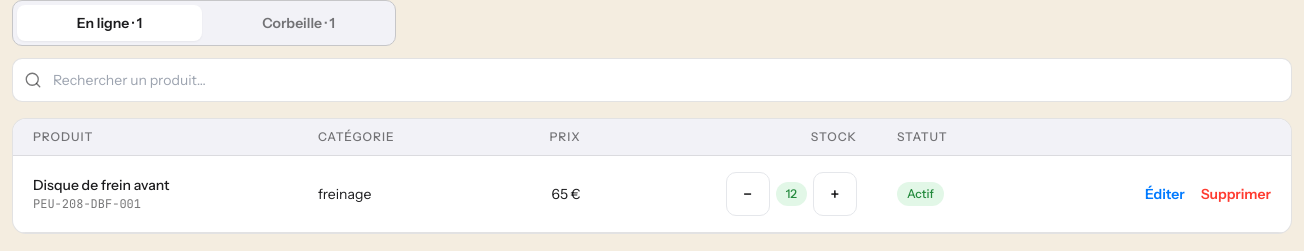
Test: Corbeille du BO › pièces : une pièce supprimée quitte la liste et se retrouve dans la corbeille
The image size is (1304, 251).
Check: the text "Disque de frein avant" is shown, box [33,176,170,194]
Check: the text "Plaquettes de frein avant" is not shown
Click the tab "Corbeille · 1" at [298, 23], box [206,5,391,41]
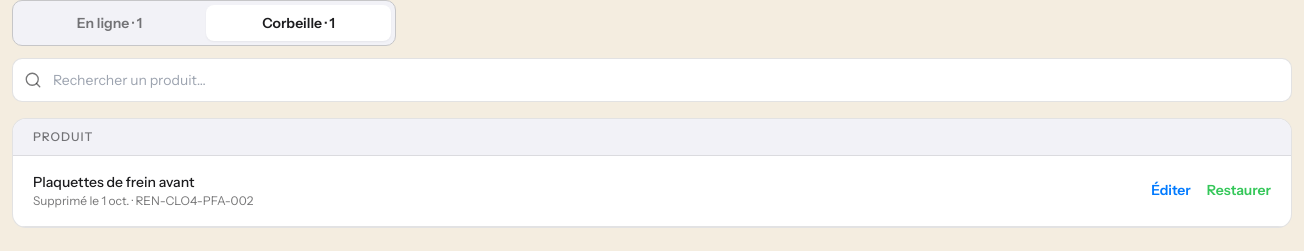
Check: the text "Plaquettes de frein avant" is shown, box [33,173,194,191]
Check: the button "Restaurer" is shown, box [1207,180,1271,201]
